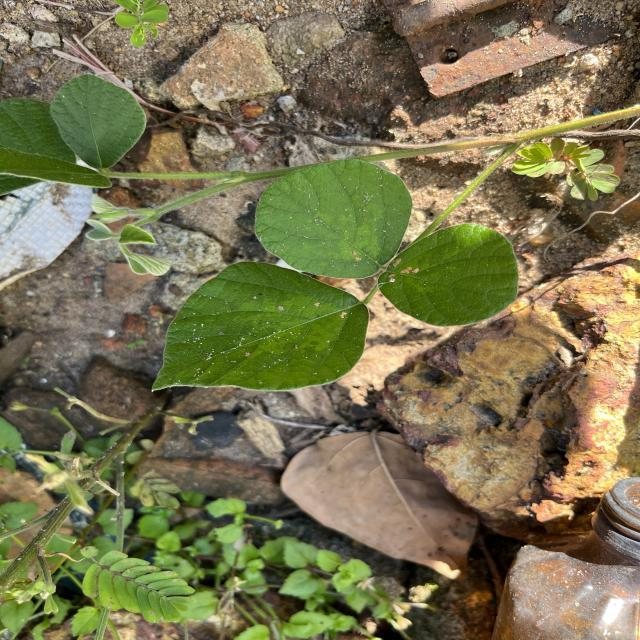Pseudarthria viscida: (148, 156, 522, 396)
